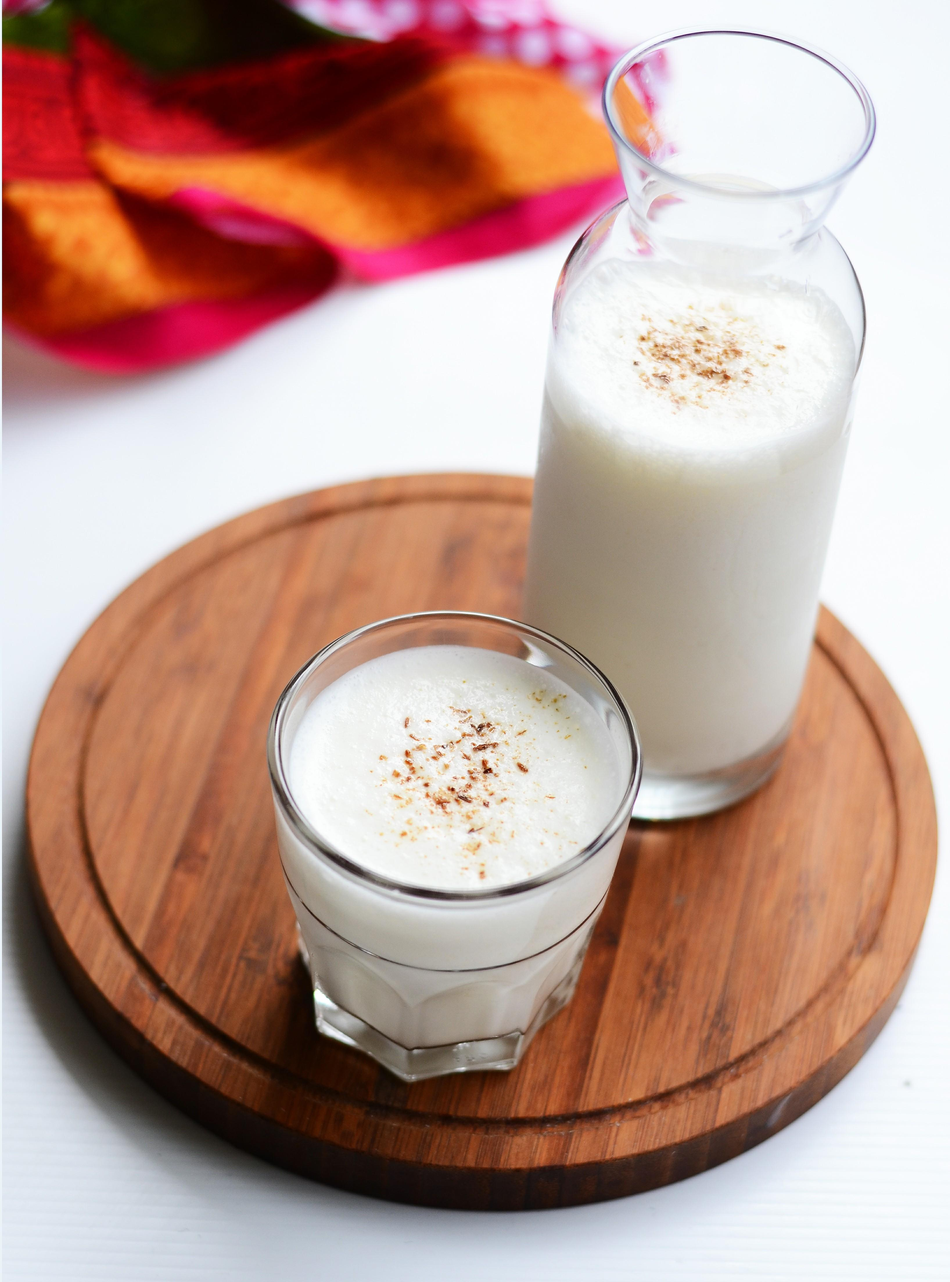Lassi: (512, 251, 860, 766), (277, 642, 624, 1047)
